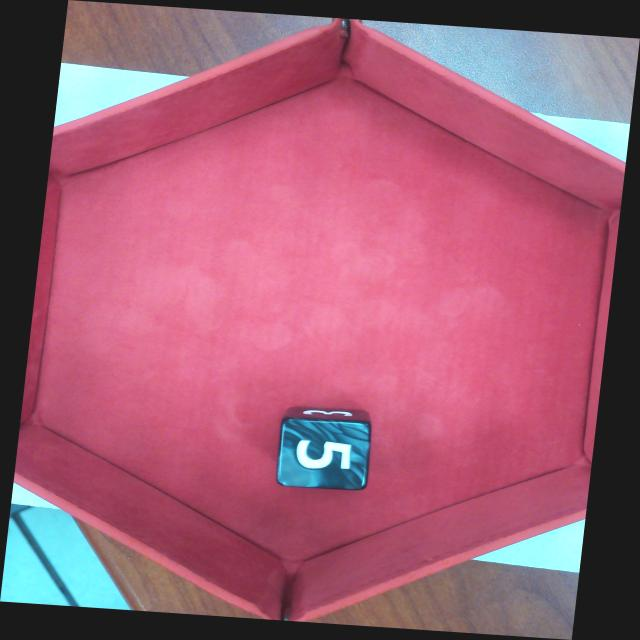dice: (274, 415, 373, 493)
